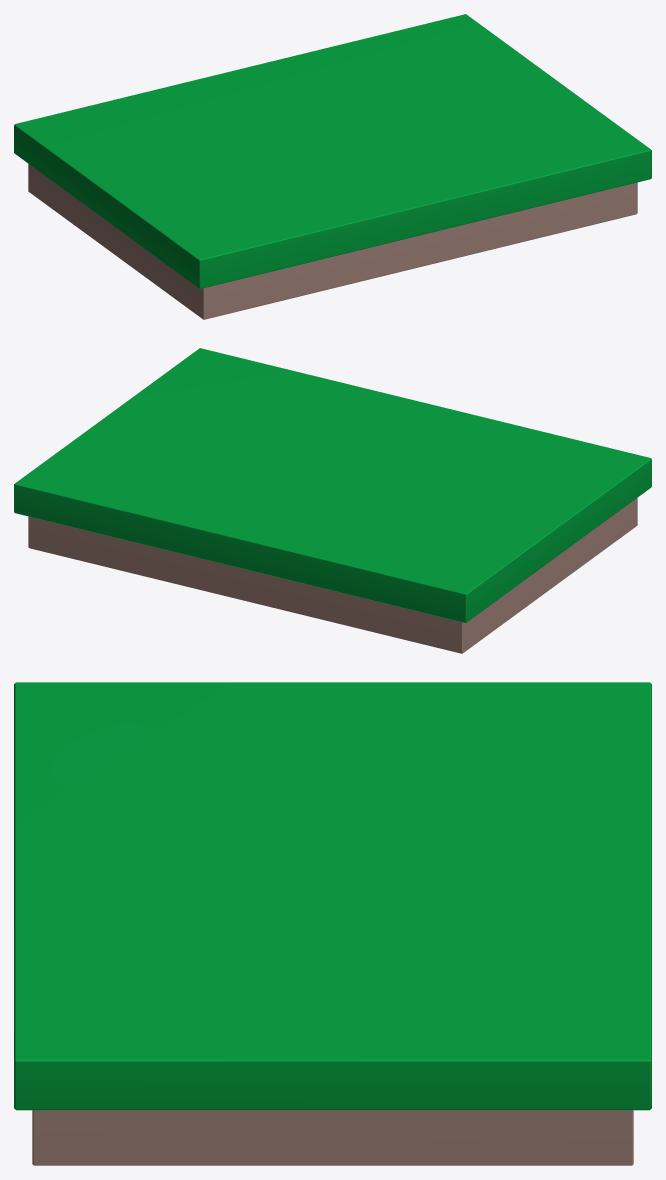
The model's file is Farm_9_Base_1.glb.
The picture shows the model from 3 angles, top to bottom: view 1: azimuth 30°, elevation 25°; view 2: azimuth 150°, elevation 25°; view 3: azimuth 270°, elevation 25°; orthographic projection. The views are drawn at different scales.
Parts seen in each view (by area): view 1: Farm_9_Base_1; view 2: Farm_9_Base_1; view 3: Farm_9_Base_1.
Boxes of the visible parts, x1,y1,x2,y2 form: Farm_9_Base_1: (14,14,651,319); Farm_9_Base_1: (14,348,651,653); Farm_9_Base_1: (14,682,651,1165).
Size of the model in its own units: 18.17 by 2.55 by 12.93.
Materials: 1 (1 with a texture image).
